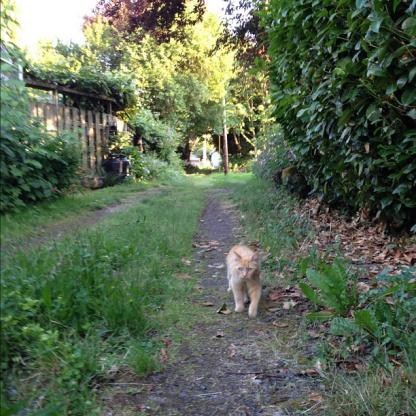Target: (222, 242, 267, 321)
